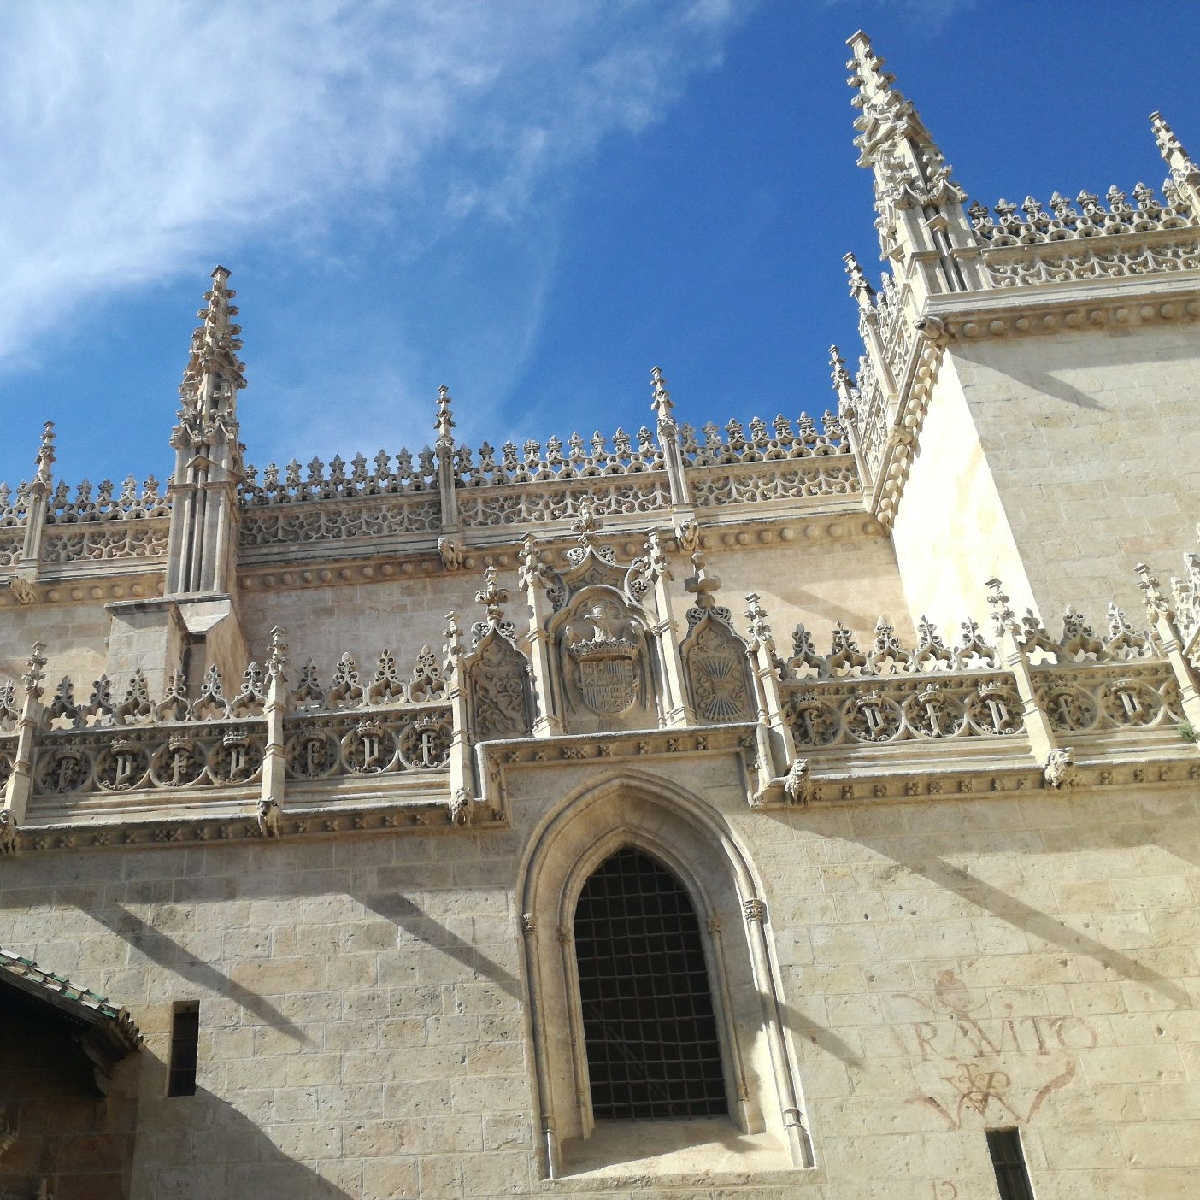arco-apuntado: (505, 762, 777, 942)
pinaculo-gotico: (837, 18, 973, 236), (173, 256, 249, 431)
